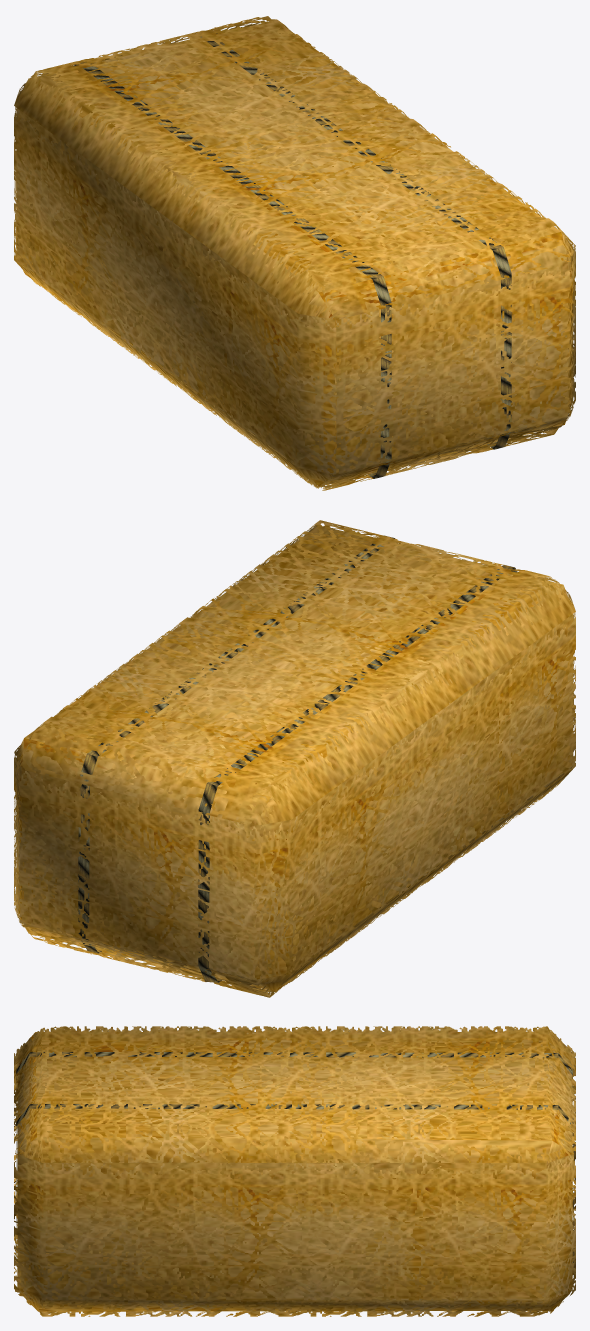
Rendered from HAYBAIL_BIG.obj.
3 renders of one model, top to bottom at view 1: azimuth 30°, elevation 25°; view 2: azimuth 150°, elevation 25°; view 3: azimuth 270°, elevation 25°, orthographic. The views are drawn at different scales.
Visible parts, largest first — view 1: bail; view 2: bail; view 3: bail.
Part boxes in pixels (bbox=[...]): bail: bbox=[14, 16, 575, 490]; bail: bbox=[14, 520, 575, 997]; bail: bbox=[14, 1026, 575, 1316].
Size of the model in its own units: 99.63 by 72.89 by 196.
